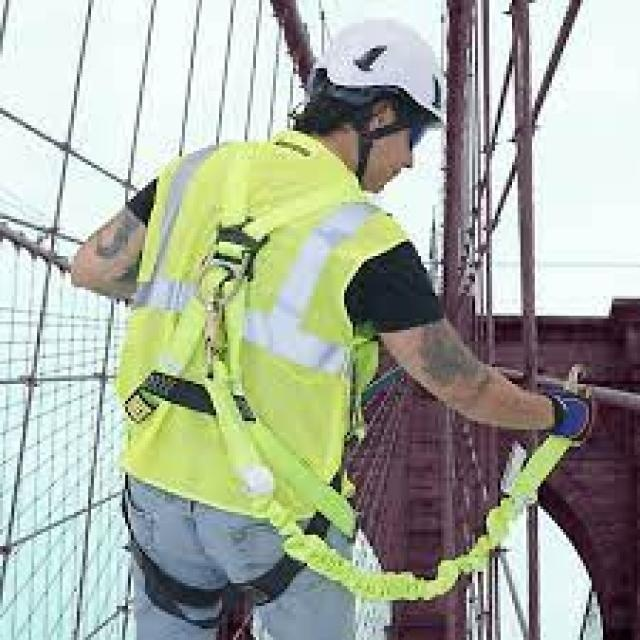Arnes_seguridad: (122, 135, 357, 503)
